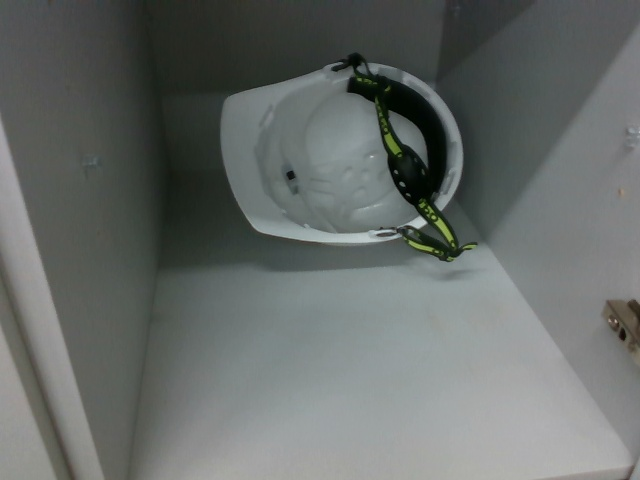helmet: (216, 49, 468, 249)
